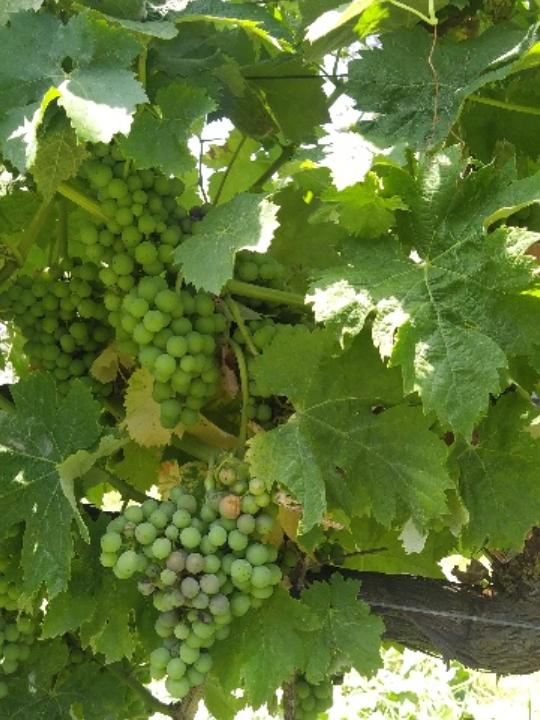grape: (93, 456, 300, 703), (78, 155, 236, 429)
